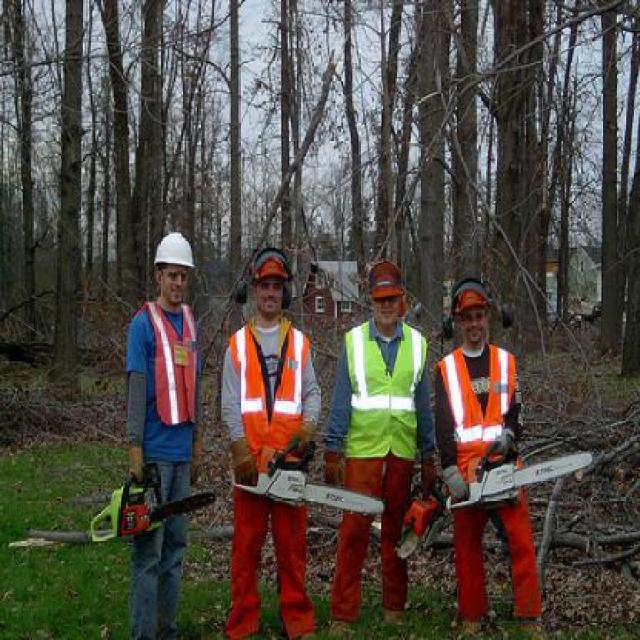Chainsaw: (229, 438, 383, 520), (442, 438, 596, 516), (88, 463, 215, 543)
